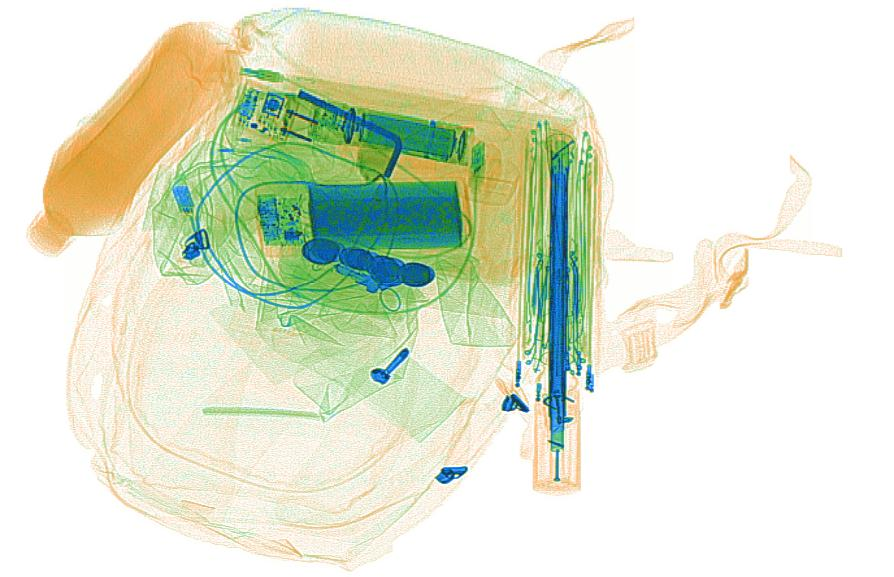battery: (356, 112, 458, 159)
